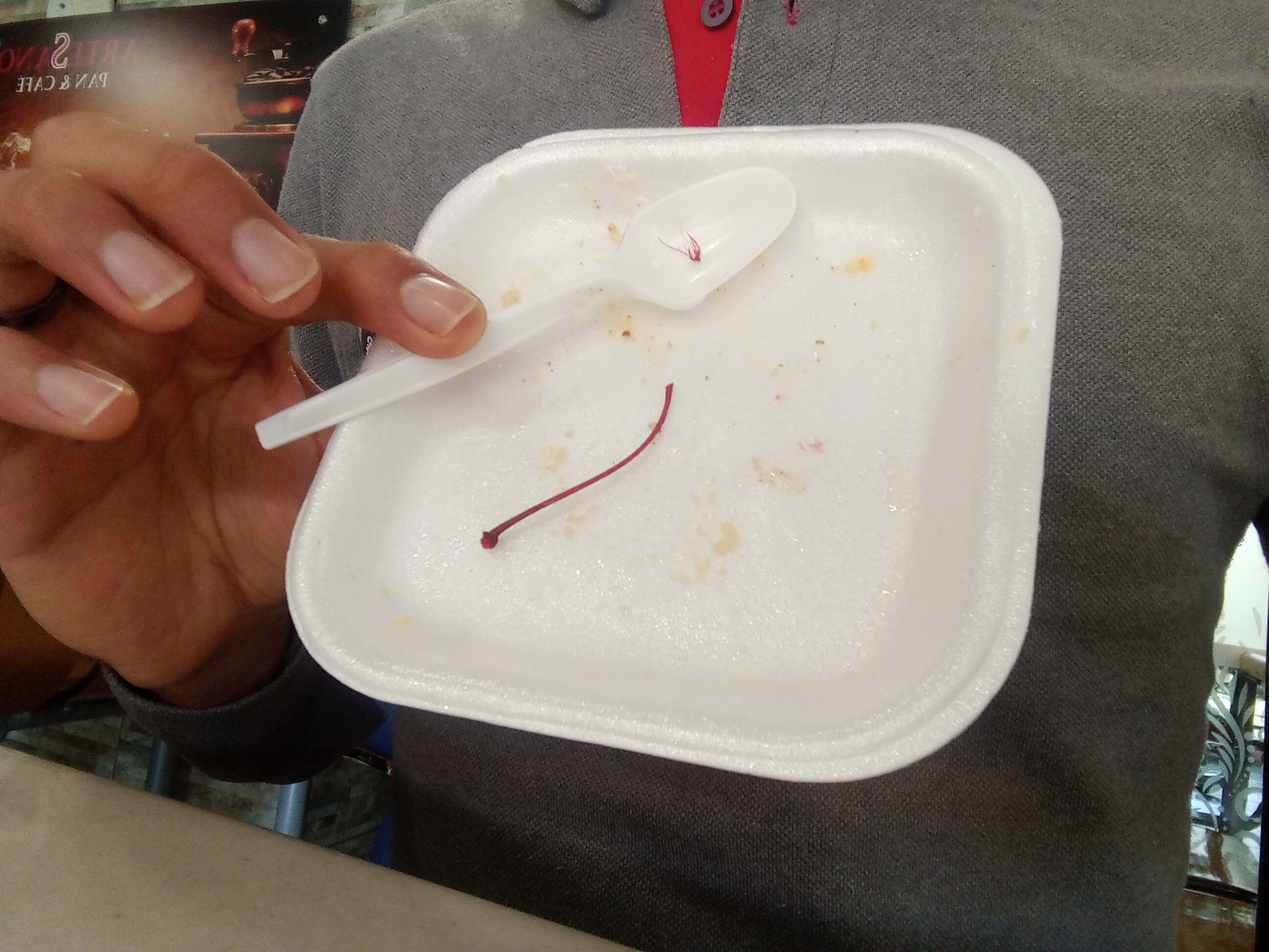Ordinario: (284, 122, 1063, 786)
